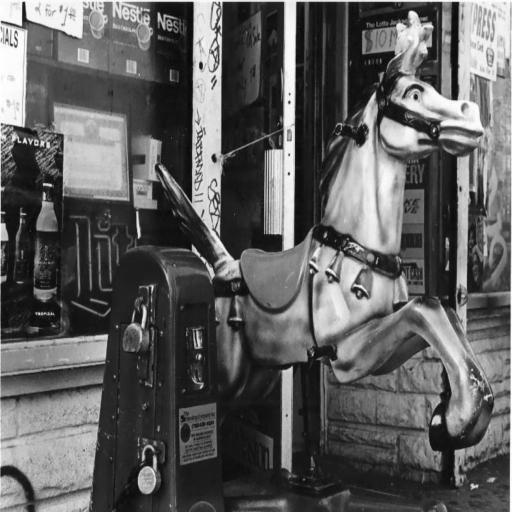horse: (152, 9, 497, 453)
